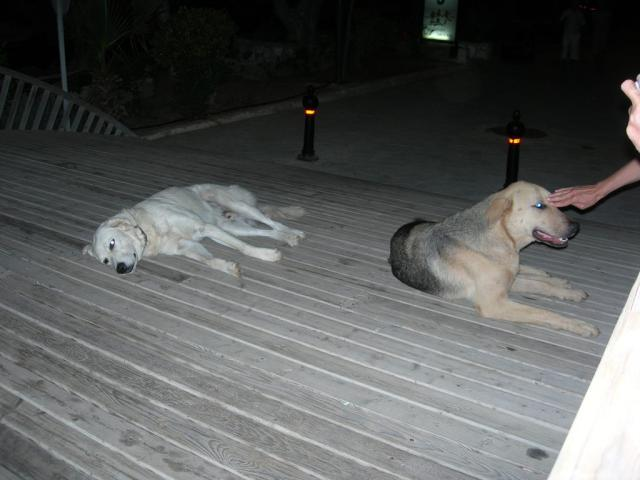Dog: (385, 180, 599, 340), (82, 184, 308, 283)
